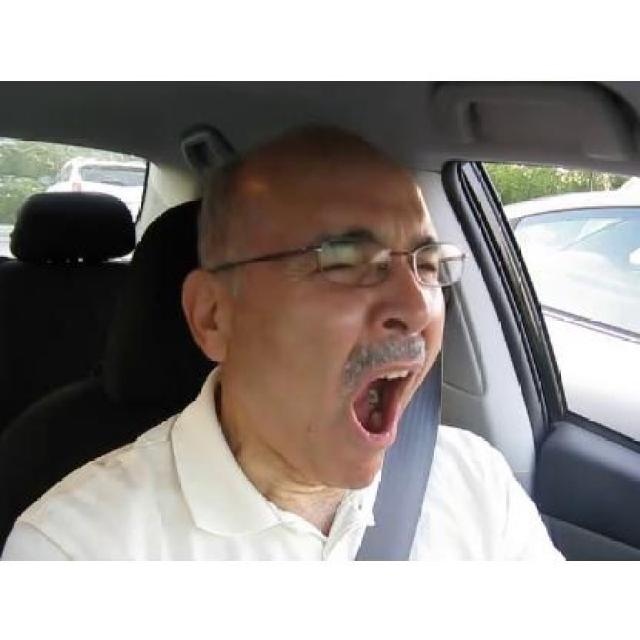inattentif: (186, 122, 445, 490)
